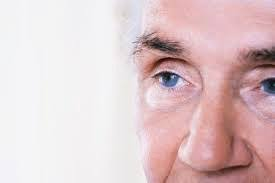PUFFY_EYES: (141, 55, 203, 110)
